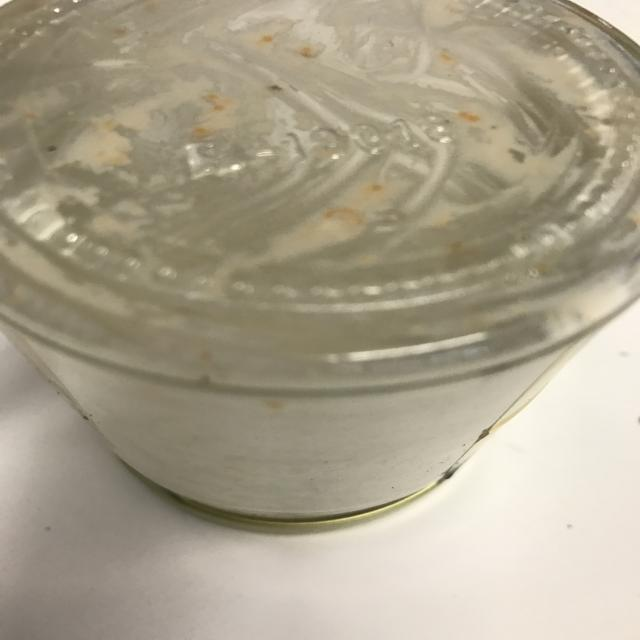glass: (0, 0, 630, 530)
